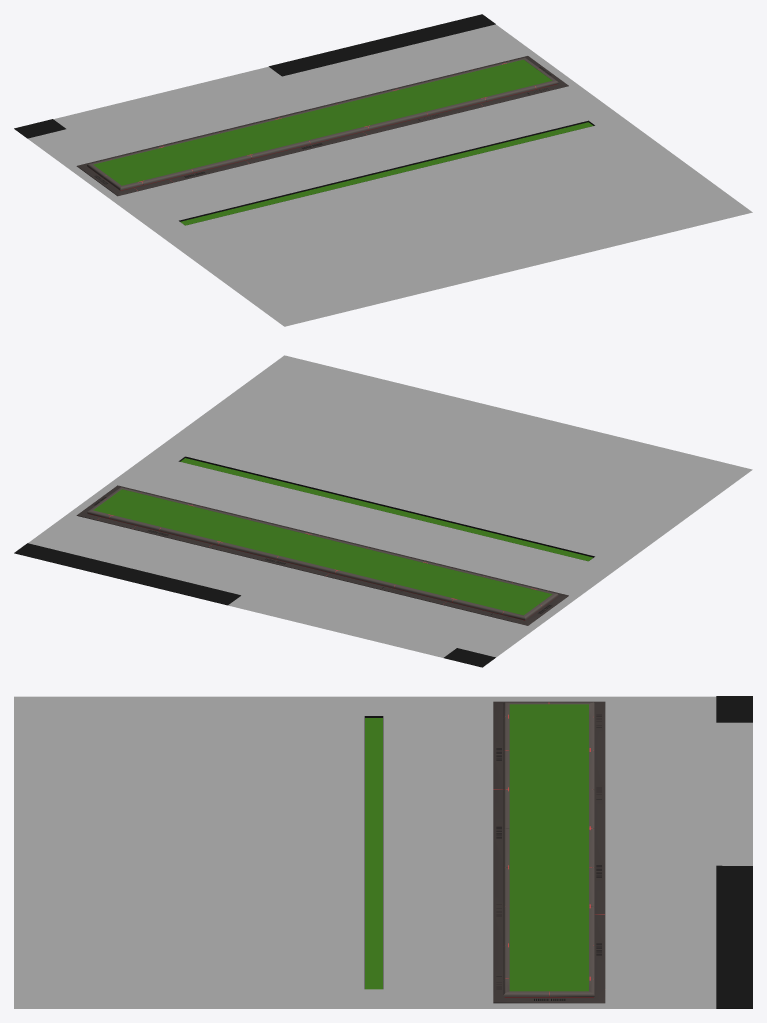
File: W_M_16x16_R0_Park_Floor_L0.fbx
3 renders of one model, top to bottom at view 1: azimuth 30°, elevation 25°; view 2: azimuth 150°, elevation 25°; view 3: azimuth 270°, elevation 25°, orthographic. The views are drawn at different scales.
Parts seen in each view (by area): view 1: W_M_16x16_R0_Park_Floor_L0; view 2: W_M_16x16_R0_Park_Floor_L0; view 3: W_M_16x16_R0_Park_Floor_L0.
Boxes of the visible parts, left/top/right/bottom form: W_M_16x16_R0_Park_Floor_L0: left=14, top=14, right=752, bottom=326; W_M_16x16_R0_Park_Floor_L0: left=14, top=355, right=752, bottom=667; W_M_16x16_R0_Park_Floor_L0: left=14, top=696, right=752, bottom=1008.
Size of the model in its own units: 16 by 16 by 0.168.
